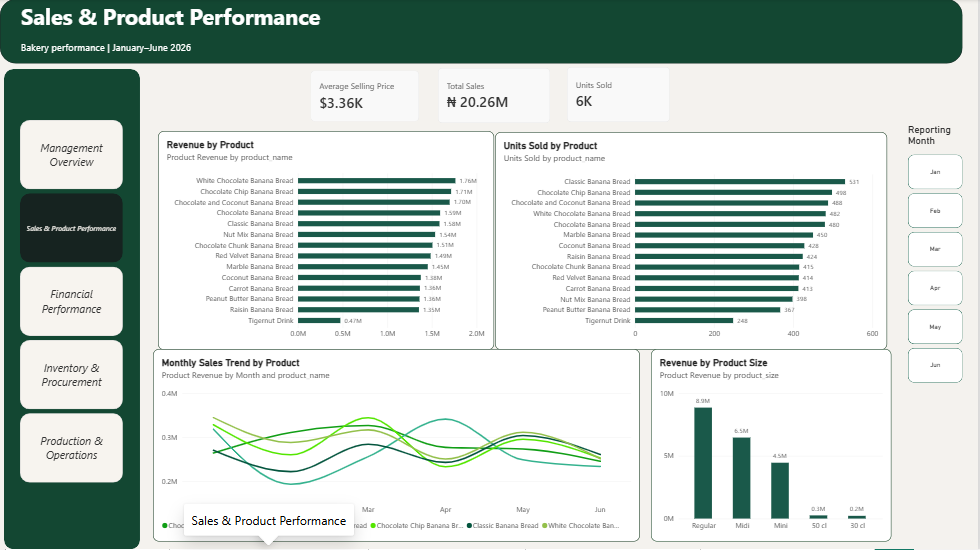

The dashboard page shown, as its layout file describes it:
{"tool":"powerbi","page":{"name":"Sales & Product Performance","canvas":[1920,1080],"ordinal":1},"visuals":[{"type":"advancedSlicerVisual","title":"Reporting Month","fields":{"Values":["DimDate.Month"]},"box":[1782,246,107.9,523.8],"z":0},{"type":"cardVisual","fields":{"Data":["Measure.Total Sales"]},"box":[860.6,136.2,220,108.6],"z":1000},{"type":"cardVisual","fields":{"Data":["Measure.Average Selling Price"]},"box":[605,136.3,223.3,110],"z":2000},{"type":"cardVisual","fields":{"Data":["Measure.Units Sold"]},"box":[1112.8,134.2,202.2,108.9],"z":3000},{"type":"clusteredBarChart","title":"Revenue by Product","fields":{"Category":["products.product_name"],"Y":["Measure.Product Revenue"]},"box":[311,259.2,660,430],"z":4000},{"type":"clusteredBarChart","title":"Units Sold by Product","fields":{"Category":["products.product_name"],"Y":["Measure.Units Sold"]},"box":[972,261.4,770,428],"z":5000},{"type":"lineChart","title":"Monthly Sales Trend by Product","fields":{"Category":["DimDate.Month"],"Series":["products.product_name"],"Y":["Measure.Product Revenue"]},"box":[300,688,956,378],"z":6000},{"type":"clusteredColumnChart","title":"Revenue by Product Size","fields":{"Category":["products.product_size"],"Y":["Measure.Product Revenue"]},"box":[1278,688,472,378],"z":7000},{"type":"shape","box":[8,138,267.1,942.9],"z":8000},{"type":"pageNavigator","box":[40,237.5,202.5,712.5],"z":9000},{"type":"shape","box":[0,0,1890,126.7],"z":10000},{"type":"textbox","box":[40.9,6.8,625,120],"z":11000}]}

Visuals, with their boxes in screenshot pixels (x1, y1, x2, y2), scaled from the page's 1920x1080 canvas onto the 980x550 screenshot:
"Reporting Month" advancedSlicerVisual: box(910, 125, 965, 392)
cardVisual - Measure.Total Sales: box(439, 69, 552, 125)
cardVisual - Measure.Average Selling Price: box(309, 69, 423, 125)
cardVisual - Measure.Units Sold: box(568, 68, 671, 124)
"Revenue by Product" clusteredBarChart: box(159, 132, 496, 351)
"Units Sold by Product" clusteredBarChart: box(496, 133, 889, 351)
"Monthly Sales Trend by Product" lineChart: box(153, 350, 641, 543)
"Revenue by Product Size" clusteredColumnChart: box(652, 350, 893, 543)
shape: box(4, 70, 140, 549)
pageNavigator: box(20, 121, 124, 484)
shape: box(0, 0, 965, 65)
textbox: box(21, 3, 340, 65)
